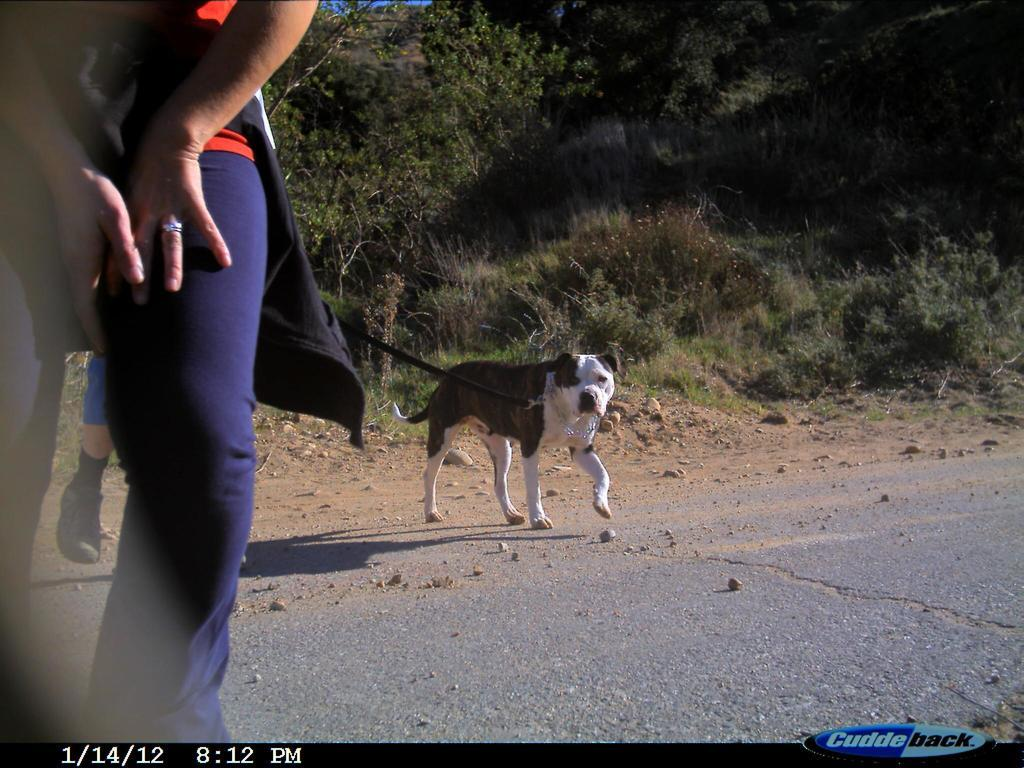dog: (388, 346, 630, 536)
